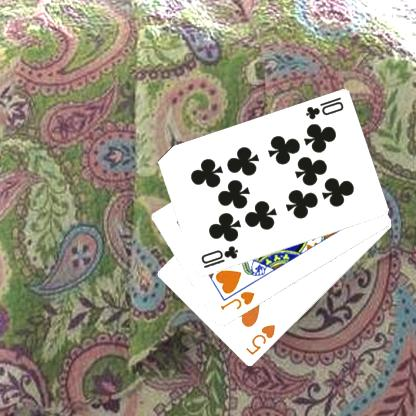10C: (198, 243, 240, 270), (303, 95, 345, 121)
5H: (242, 322, 276, 357)
JH: (218, 289, 256, 312)
